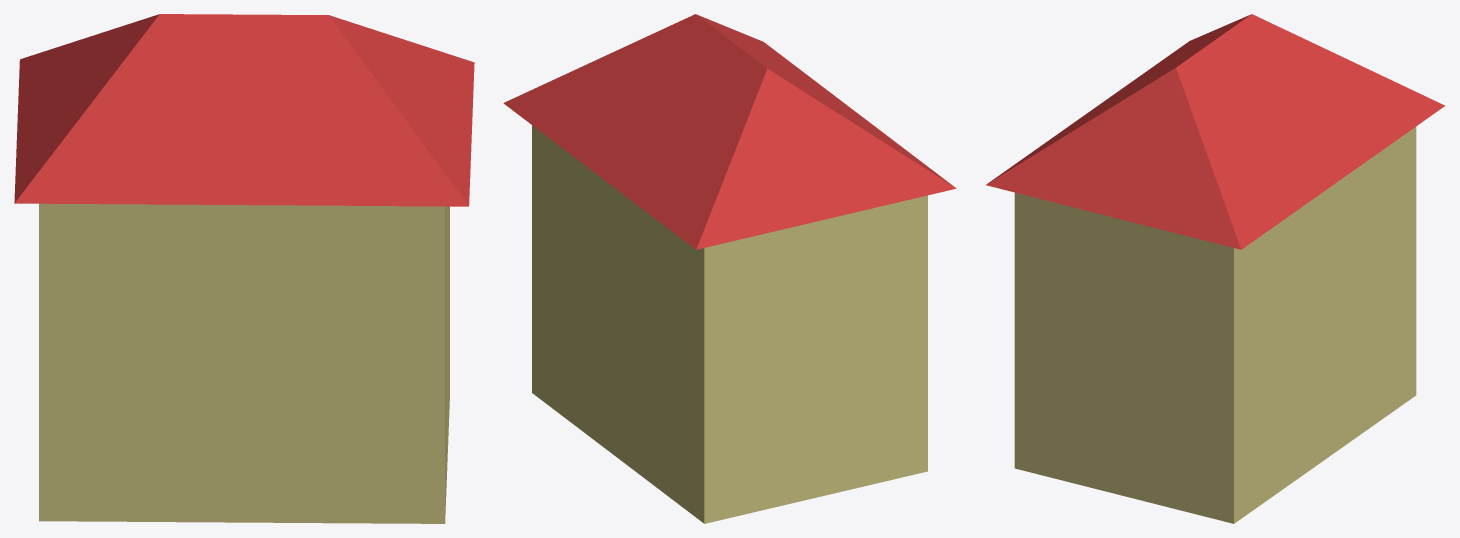
The picture shows the model from 3 angles, left to right: view 1: azimuth 30°, elevation 25°; view 2: azimuth 150°, elevation 25°; view 3: azimuth 270°, elevation 25°; orthographic projection. The views are drawn at different scales.
Visible parts, largest first — view 1: group_5, group_3, group_4; view 2: group_5, group_3, group_4; view 3: group_5, group_3, group_4.
Boxes of the visible parts, x1,y1,x2,y2 form: group_5: (39,203,449,523); group_3: (14,14,468,206); group_4: (14,54,474,205); group_5: (532,125,927,523); group_3: (532,14,955,249); group_4: (503,37,956,249); group_5: (1014,127,1416,523); group_3: (987,14,1437,249); group_4: (986,37,1444,249).
Size of the model in its own units: 17.42 by 16.22 by 15.19.
